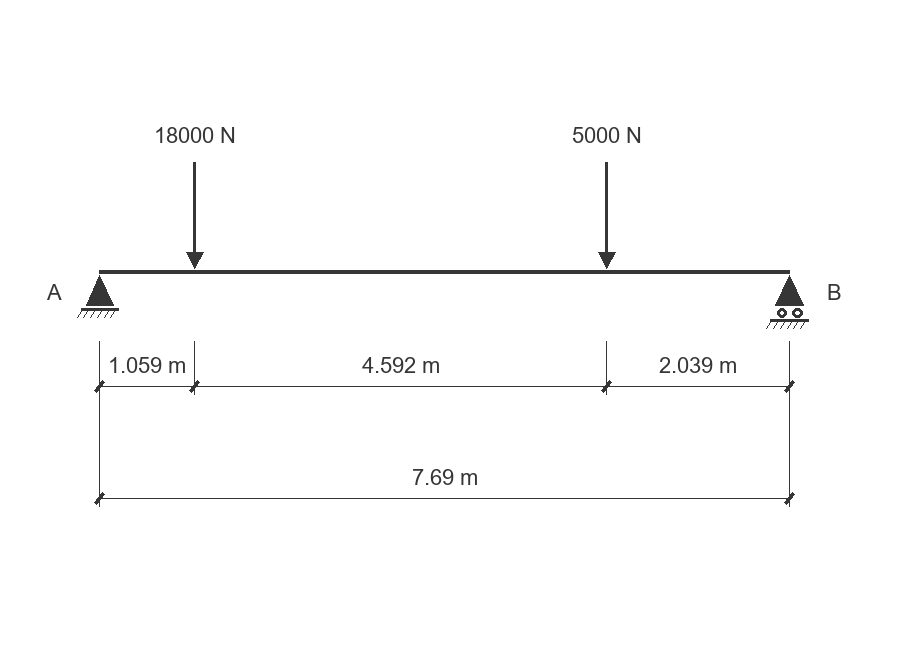pin_support: (77, 275, 119, 318)
point_load: (186, 162, 204, 269), (598, 162, 616, 269)
roller_support: (766, 275, 809, 329)
